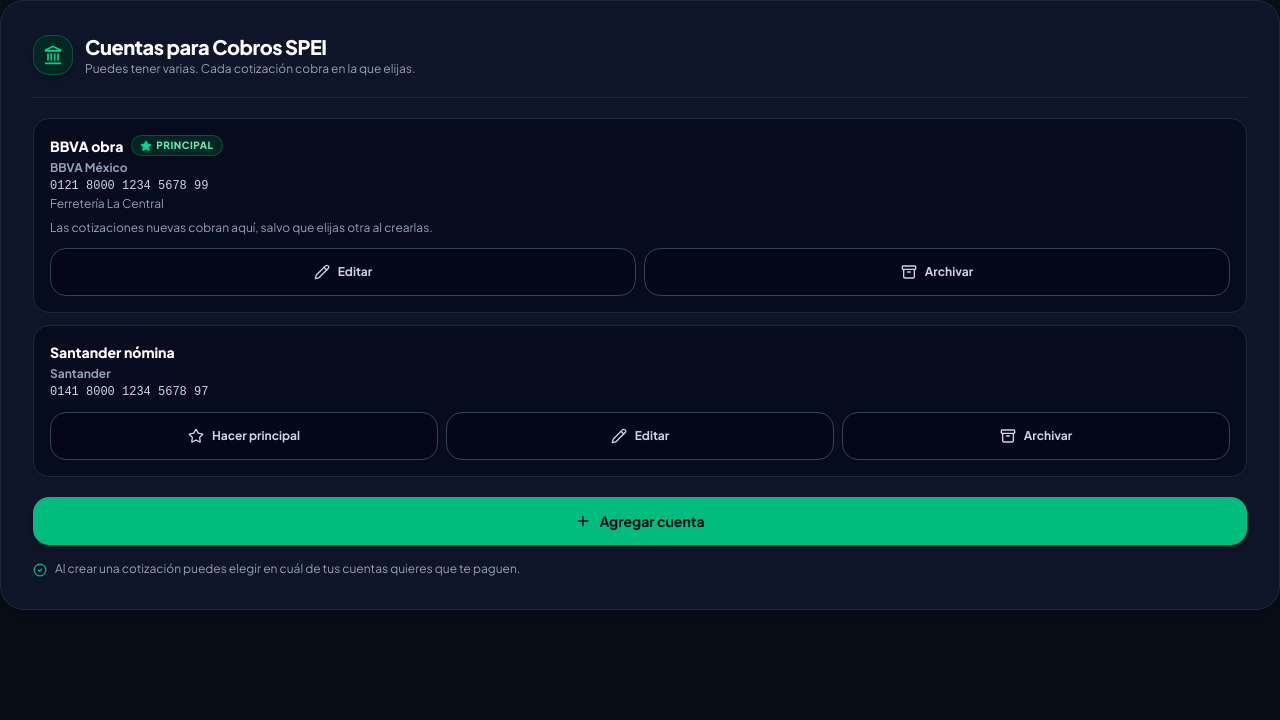
Test case: archiving › asks first, naming what stops working for already-sent quotes
This screenshot has width=1280, height=720.
Expected: the text "Santander nómina" is shown, [50,342,175,362]
Click the 2nd button "Archivar" at (1036, 436), box [842,412,1230,460]
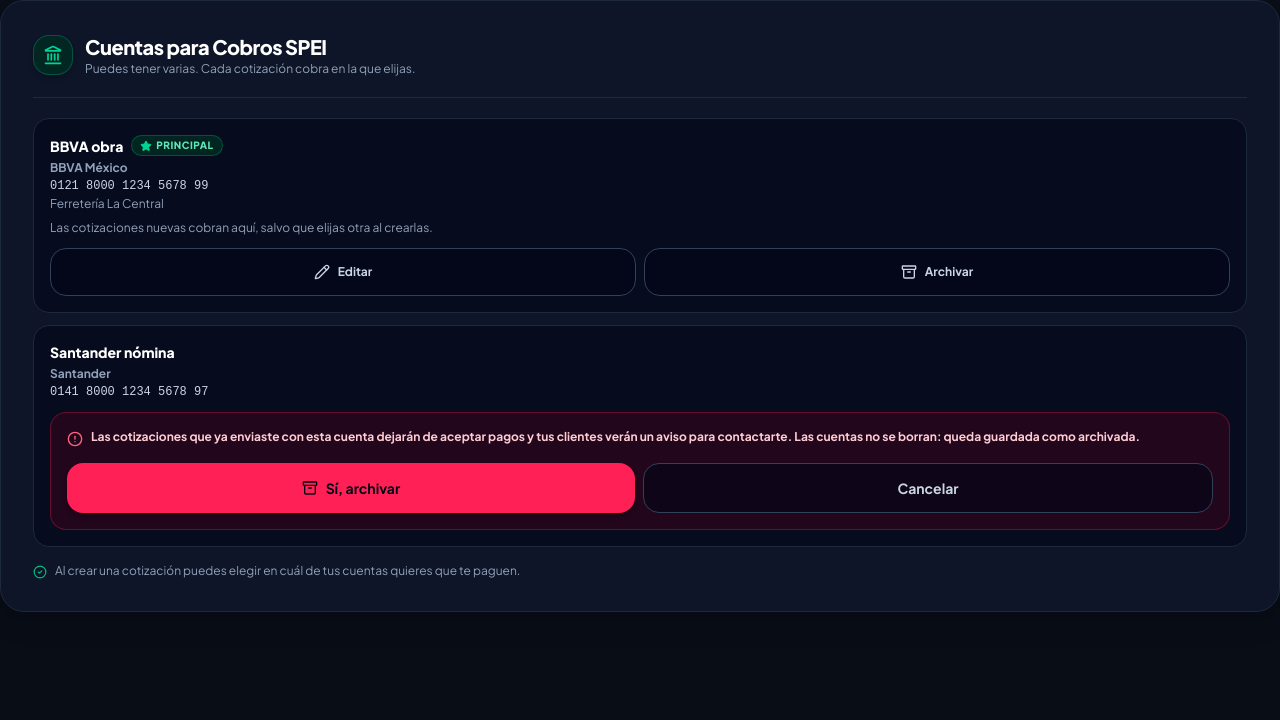
Now the text "cotizaciones que ya enviaste con esta cuenta dejarán de aceptar pagos" is shown, box [91,429,792,444]
